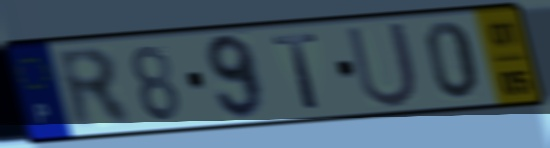0: (422, 18, 482, 103)
8: (128, 43, 184, 124)
9: (201, 31, 267, 123)
R: (51, 45, 139, 133)
T: (268, 31, 325, 113)
U: (342, 18, 422, 111)
